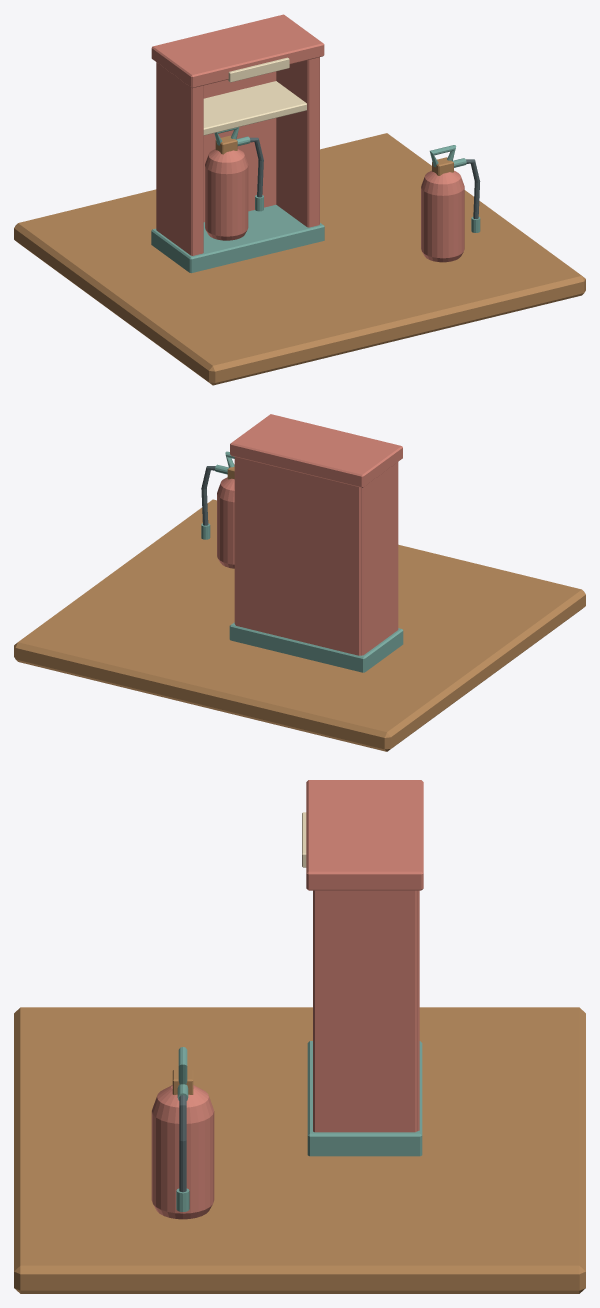
The picture shows the model from 3 angles, top to bottom: view 1: azimuth 30°, elevation 25°; view 2: azimuth 150°, elevation 25°; view 3: azimuth 270°, elevation 25°; orthographic projection. The views are drawn at different scales.
Visible parts, largest first — view 1: firefighting-equipment-corner-scene-01; view 2: firefighting-equipment-corner-scene-01; view 3: firefighting-equipment-corner-scene-01.
Boxes of the visible parts, x1,y1,x2,y2 form: firefighting-equipment-corner-scene-01: [14, 14, 585, 385]; firefighting-equipment-corner-scene-01: [14, 414, 585, 751]; firefighting-equipment-corner-scene-01: [14, 780, 585, 1293].
Size of the model in its own units: 2.4 by 1.32 by 2.2.
